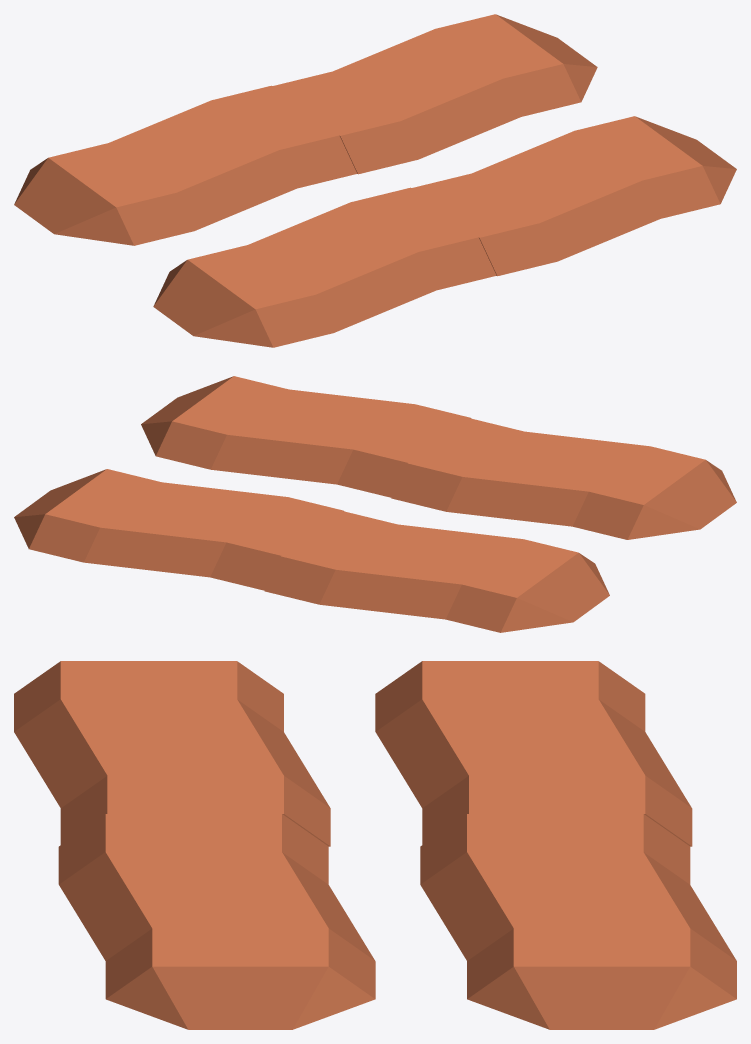
The model's file is land.fbx.
The picture shows the model from 3 angles, top to bottom: view 1: azimuth 30°, elevation 25°; view 2: azimuth 150°, elevation 25°; view 3: azimuth 270°, elevation 25°; orthographic projection. The views are drawn at different scales.
Parts seen in each view (by area): view 1: crops_dirtDoubleRowEnd (×2); view 2: crops_dirtDoubleRowEnd (×2); view 3: crops_dirtDoubleRowEnd (×2).
Boxes of the visible parts, box(x1,y1,x2,y2) form: crops_dirtDoubleRowEnd (×2): box(14, 14, 736, 347); crops_dirtDoubleRowEnd (×2): box(14, 376, 736, 632); crops_dirtDoubleRowEnd (×2): box(14, 661, 736, 1029).
Bounding box in the file's own units: 12 × 0.5 × 10.
